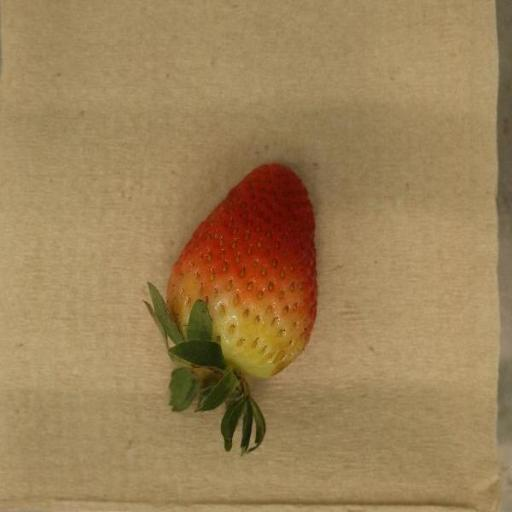Strawberry: (144, 163, 318, 457)
